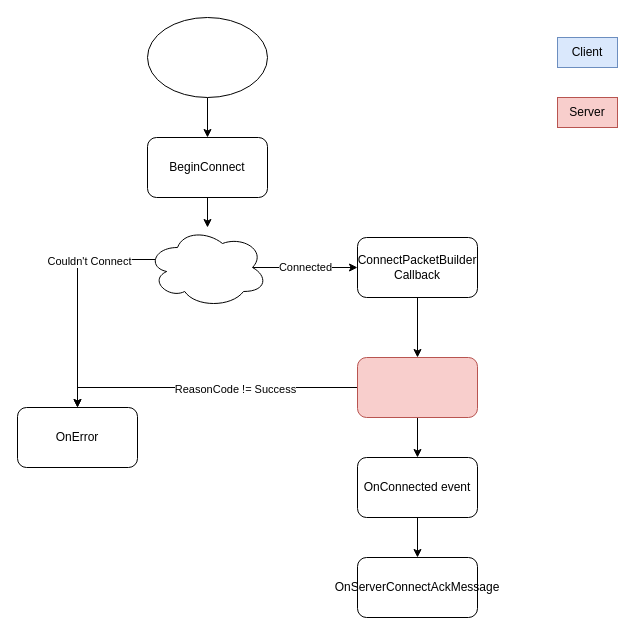
This 635x635 diagram has some shape labels left out. The shapes that lost their labels are listed below. From the top down, each one's centre as x and y in pixels, then its label:
At point 207,57: "MQTTClient instance created".
At point 207,267: "Transport tries to connect".
At point 417,387: "ConnectAck".
